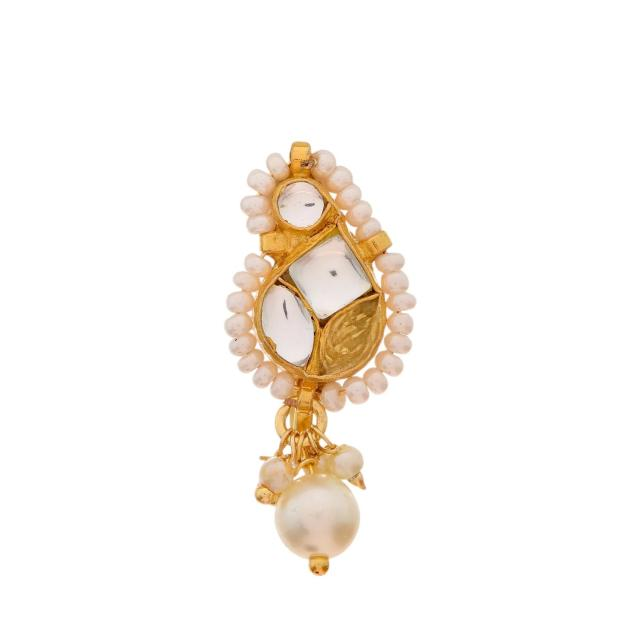missing gem: (323, 296, 380, 371)
